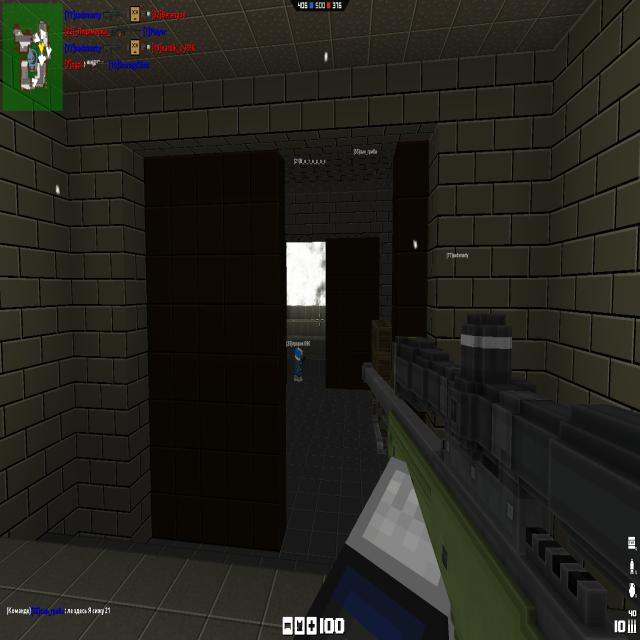player: (294, 348, 303, 382), (301, 352, 306, 362)
